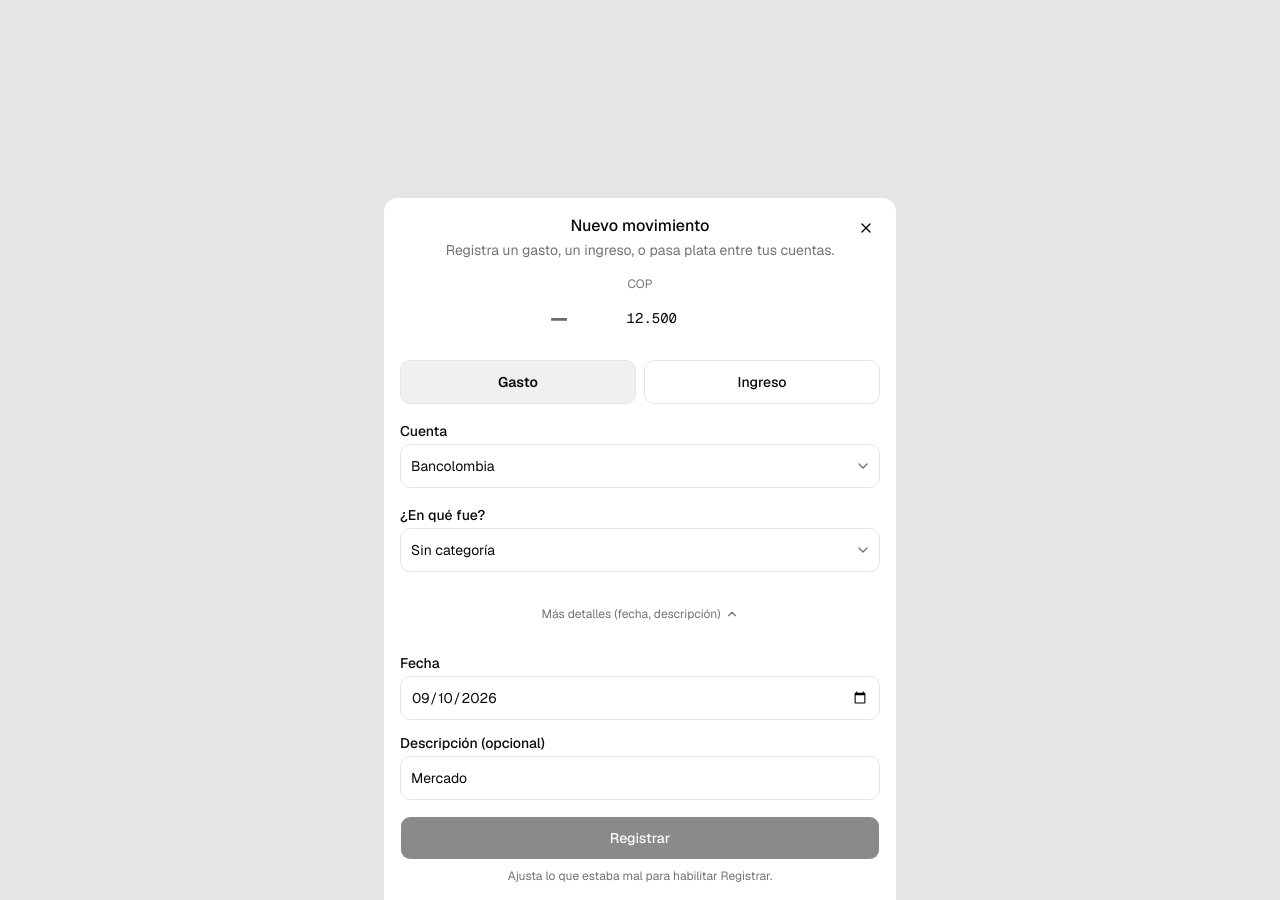
Scenario: FormularioMovimiento abierto desde afuera (corregir un movimiento) › en modo corrección Registrar no reenvía la precarga tal cual: exige un cambio
This screenshot has width=1280, height=900.
Expected: the button "Registrar" is disabled, [400,816,880,860]
Expected: the text "Ajusta lo que estaba mal para habilitar Registrar." is shown, [508,868,772,884]
Note: Un cambio lo enciende, el aviso desaparece…
Replace the text in the field labelled "Descripción (opcional)" with "Mercado de la semana": (640, 778) [400,756,880,800]
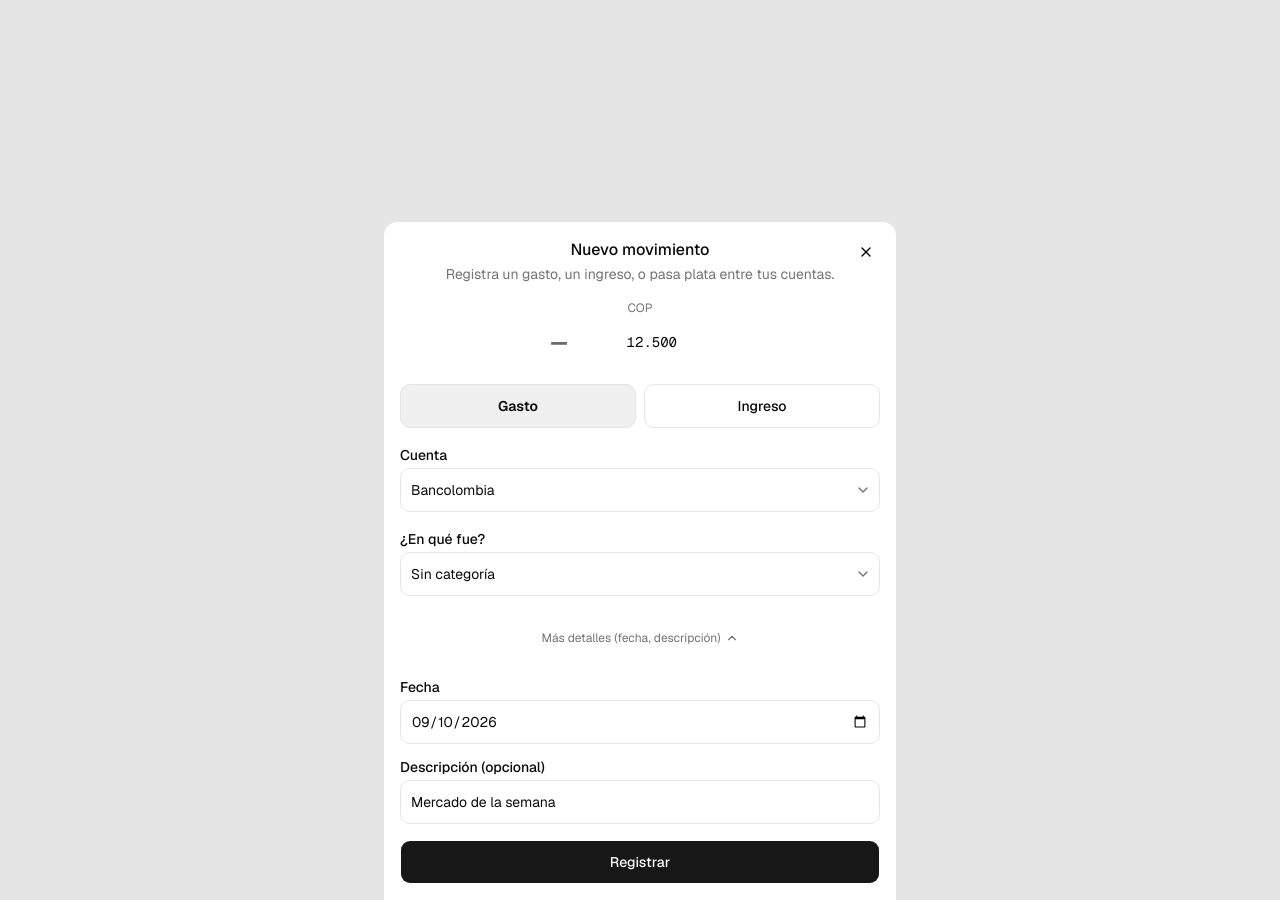
Expected: the button "Registrar" is enabled, [400,840,880,884]
Expected: the text "Ajusta lo que estaba mal para habilitar Registrar." is gone
Replace the text in the field labelled "Descripción (opcional)" with "Mercado": (640, 802) [400,780,880,824]
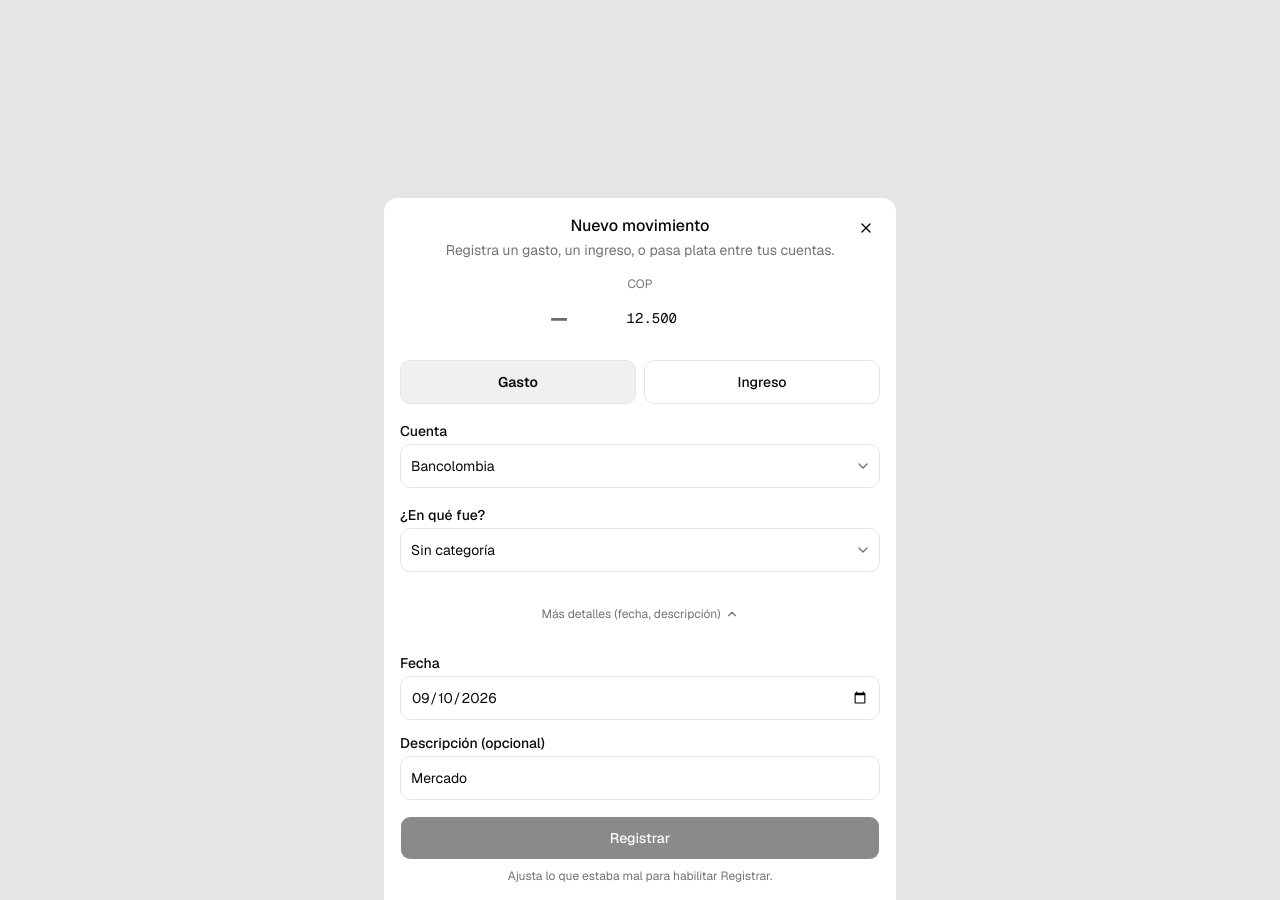
Expected: the button "Registrar" is disabled, [400,816,880,860]
